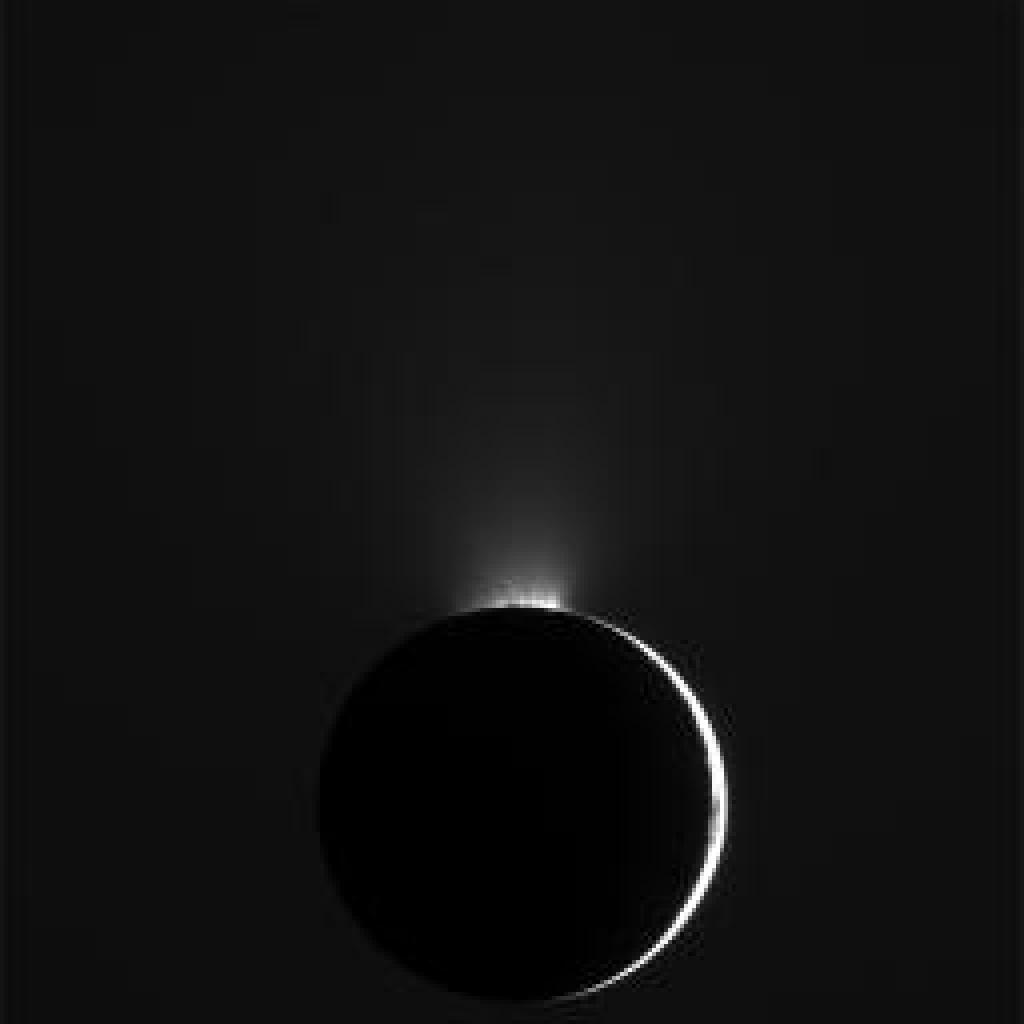plumes: (437, 501, 578, 620)
